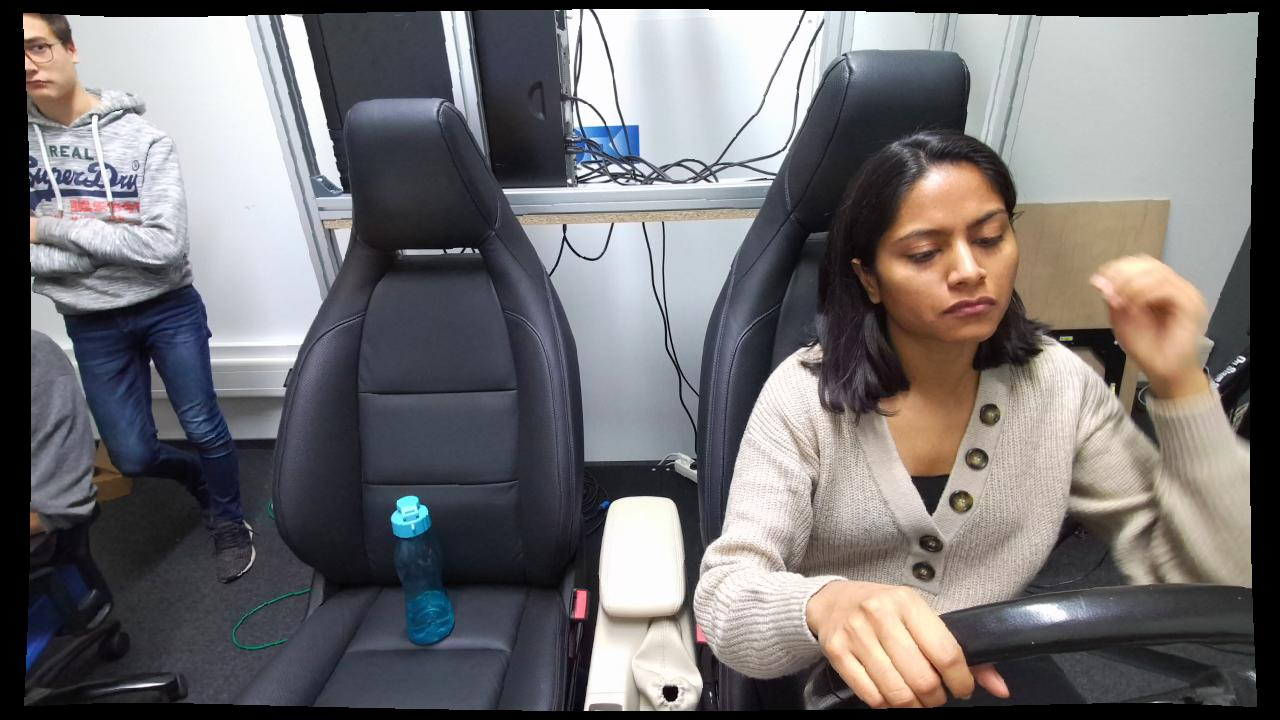Distracted: (688, 120, 1225, 714)
